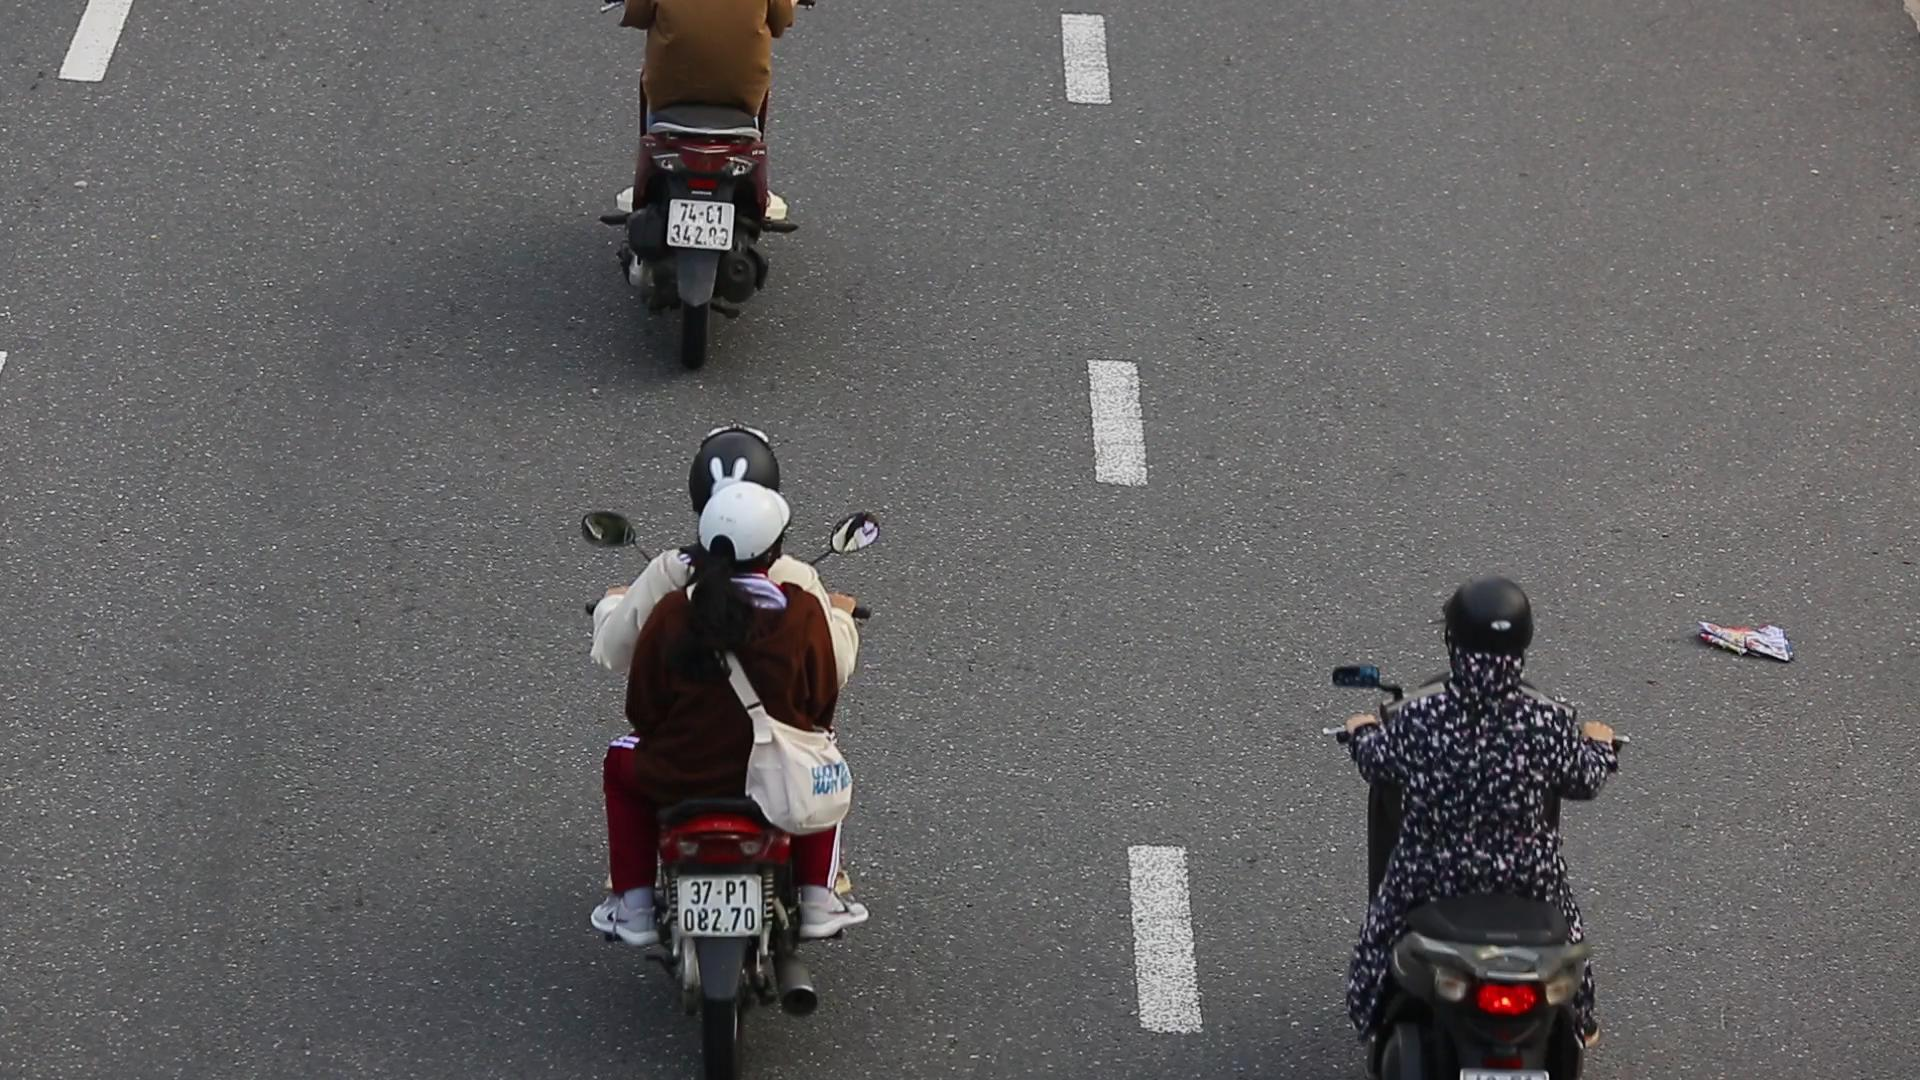motobike: (555, 400, 907, 1080)
